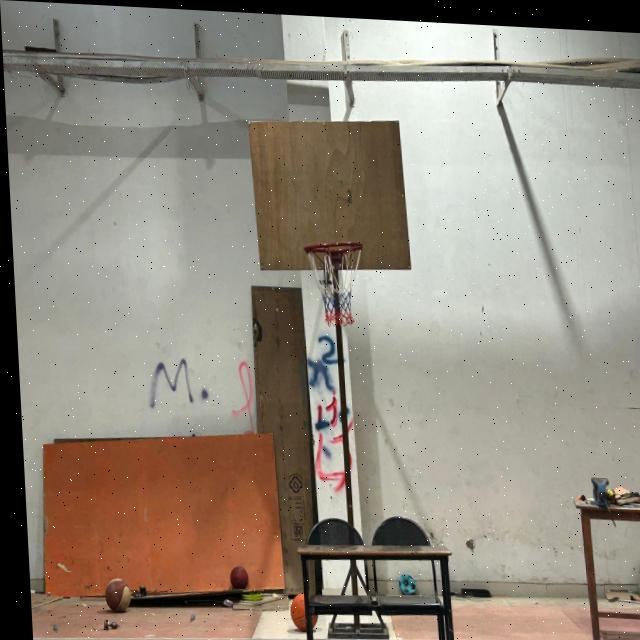hoop: (298, 238, 382, 336)
